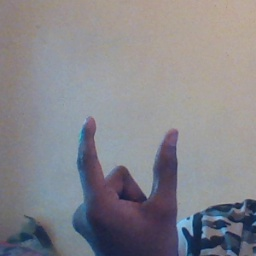U: (71, 107, 186, 255)
